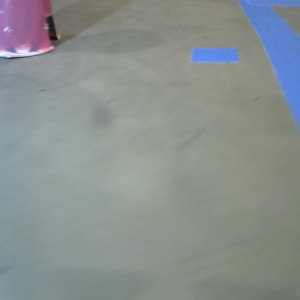middle: (1, 1, 61, 59)
